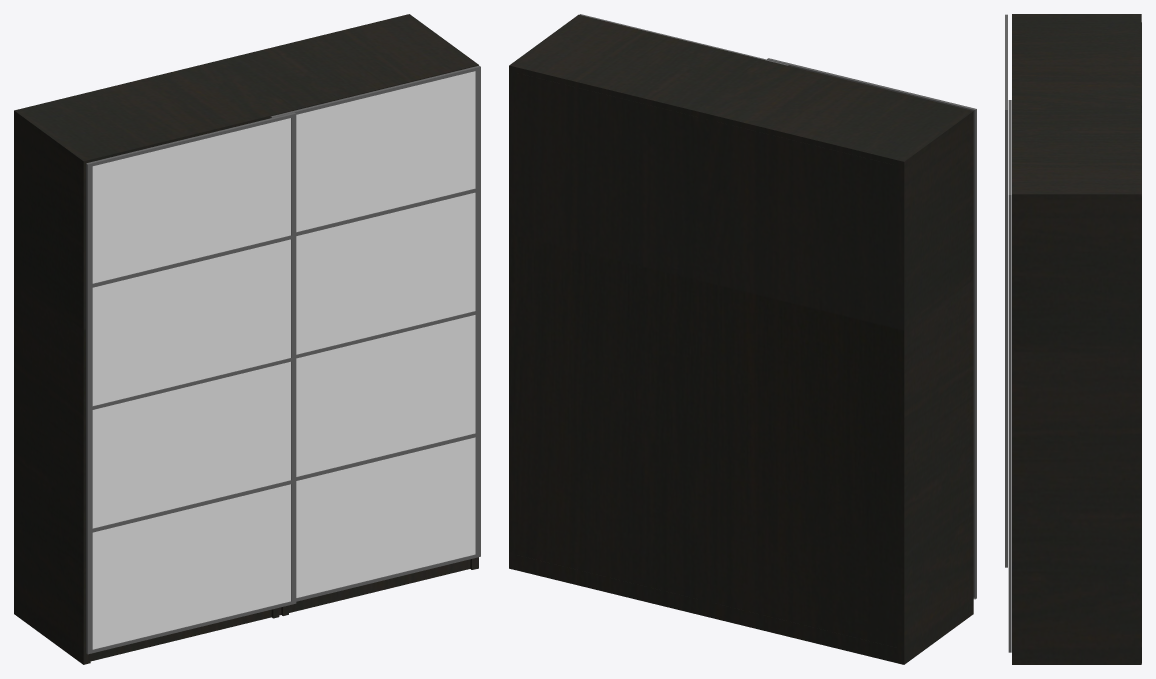
The model's file is wardrobeWithSlidingDoors.glb.
3 renders of one model, left to right at view 1: azimuth 30°, elevation 25°; view 2: azimuth 150°, elevation 25°; view 3: azimuth 270°, elevation 25°, orthographic. The views are drawn at different scales.
Parts seen in each view (by area): view 1: Door.001_Plane.006, Door.000_Plane.003, Box_Plane; view 2: Box_Plane, Door.001_Plane.006; view 3: Box_Plane, Door.000_Plane.003, Door.001_Plane.006.
Boxes of the visible parts, x1,y1,x2,y2 form: Door.001_Plane.006: (86, 112, 296, 654); Door.000_Plane.003: (270, 65, 480, 601); Box_Plane: (14, 14, 478, 664); Box_Plane: (509, 14, 973, 664); Door.001_Plane.006: (767, 58, 976, 599); Box_Plane: (1012, 14, 1141, 664); Door.000_Plane.003: (1008, 100, 1011, 652); Door.001_Plane.006: (1005, 14, 1007, 567).
Size of the model in its own units: 2 by 2.43 by 0.6411.
4 materials, 1 textured.
